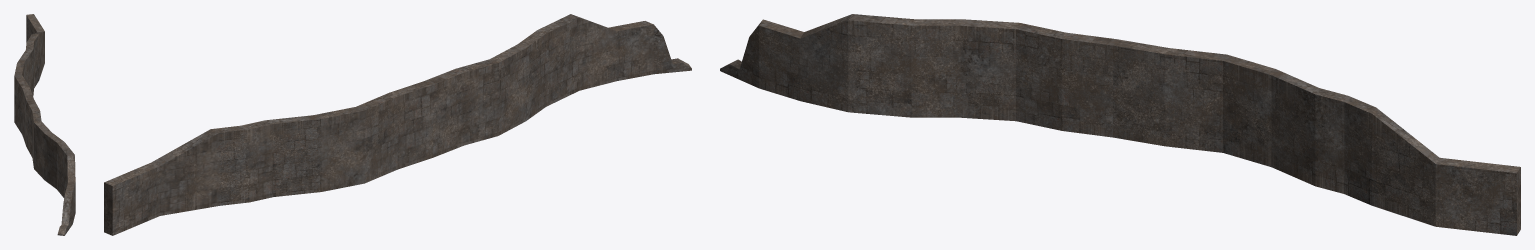
File: Muralla.obj
The picture shows the model from 3 angles, left to right: view 1: azimuth 30°, elevation 25°; view 2: azimuth 150°, elevation 25°; view 3: azimuth 270°, elevation 25°; orthographic projection. The views are drawn at different scales.
Parts seen in each view (by area): view 1: muralla; view 2: muralla; view 3: muralla.
Part boxes in pixels (bbox=[...]): muralla: bbox=[14, 14, 75, 235]; muralla: bbox=[104, 14, 691, 235]; muralla: bbox=[720, 14, 1520, 235].
Size of the model in its own units: 155 by 39.26 by 310.
Materials: 1 (1 with a texture image).
